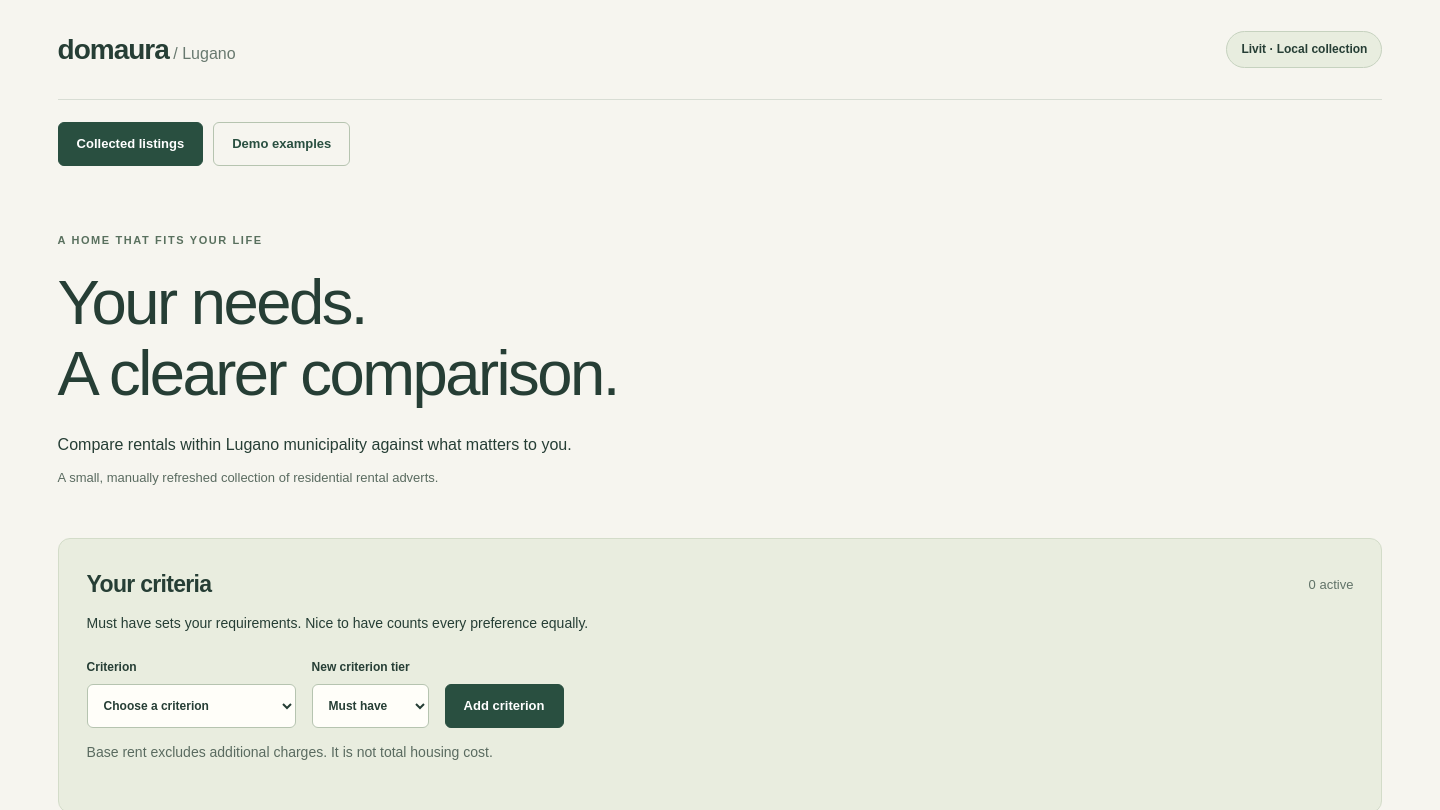
Test: collected source evidence › shows unknown collected attributes with the existing English comparison explanations
Select "Maximum monthly base rent" in the dropdown labelled "Criterion" at (191, 706), box 87,684 -> 296,728
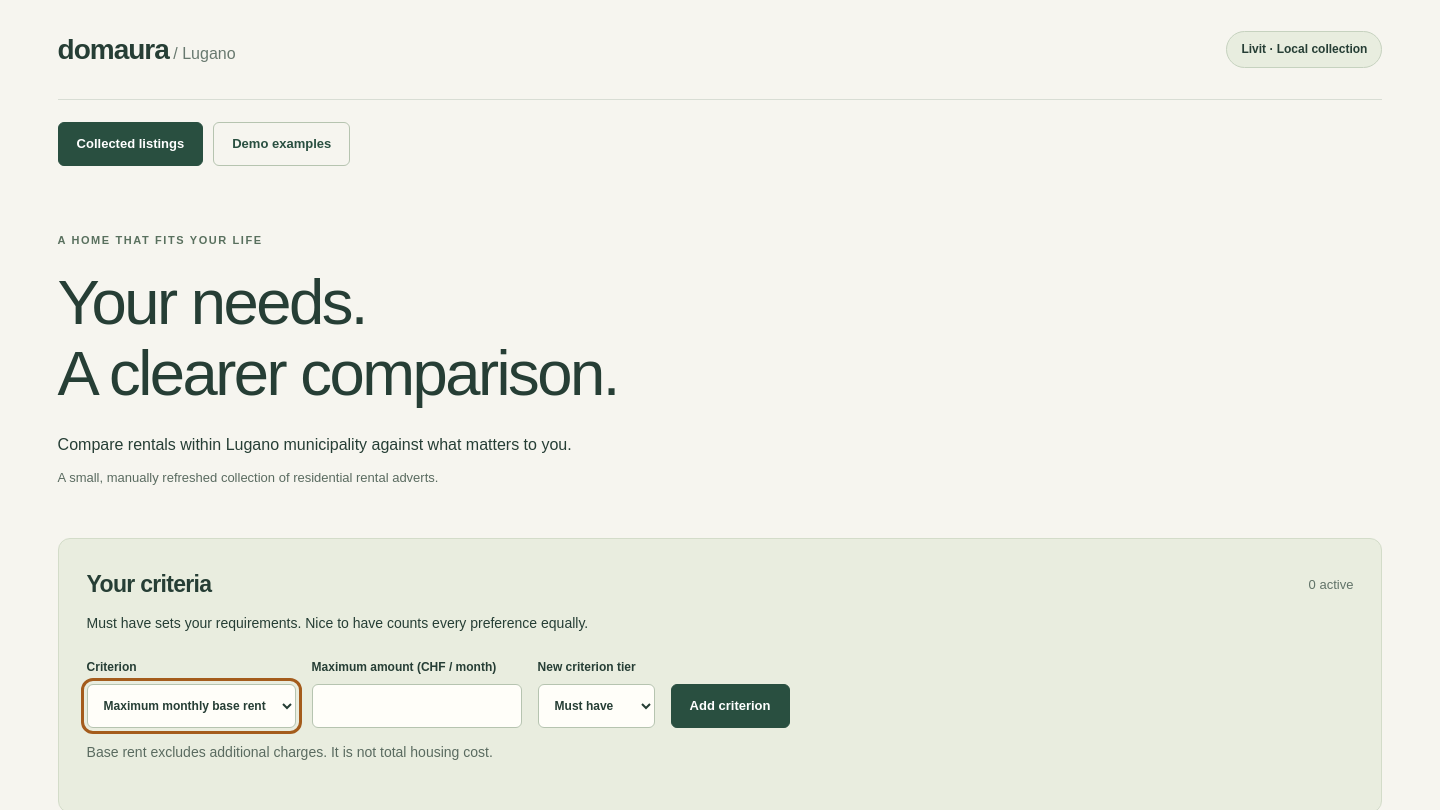
Type "1800" into the field labelled "Maximum amount (CHF / month)" at (417, 706), box 312,684 -> 522,728
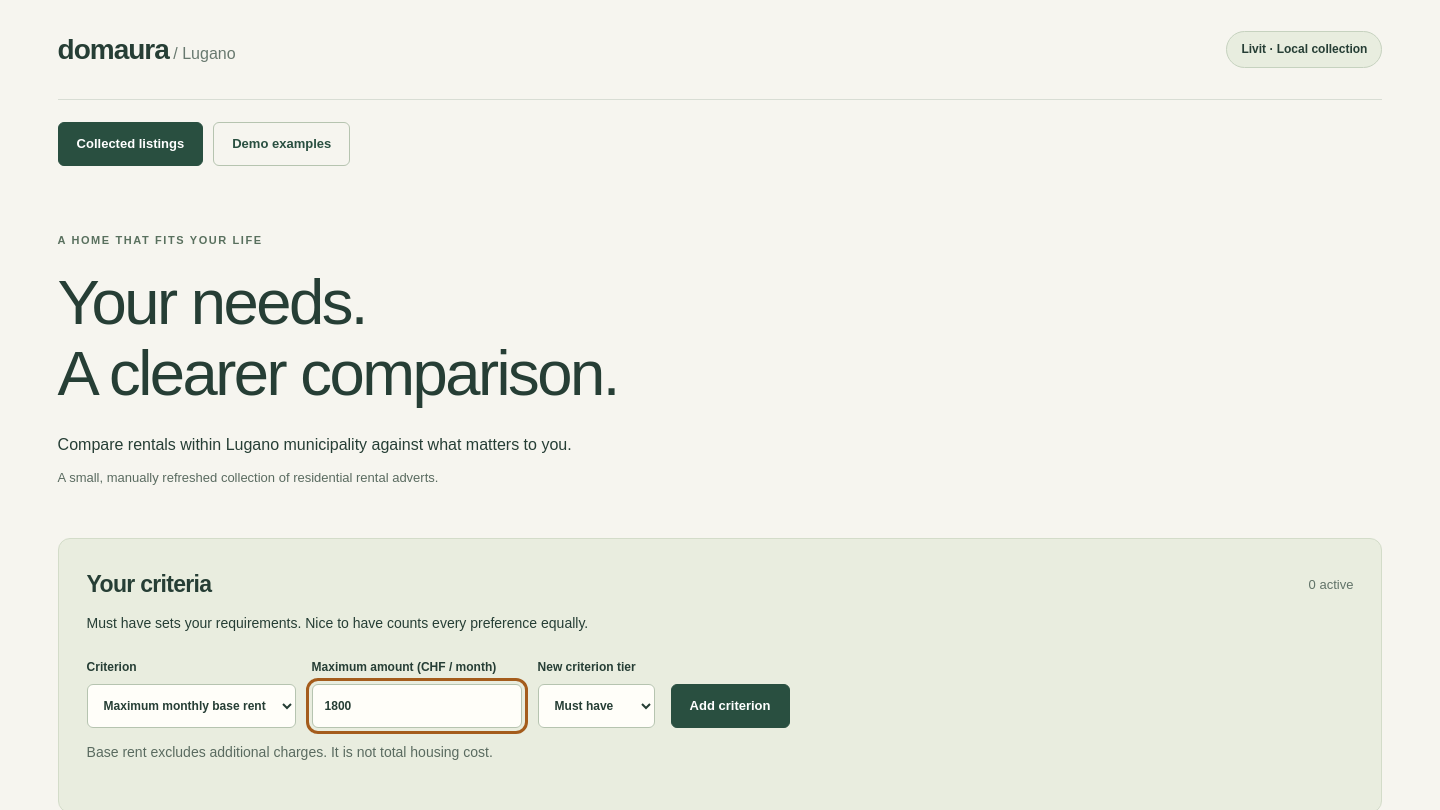
Click the button "Add criterion" at (730, 706), box 671,684 -> 790,728
(page scrolled)
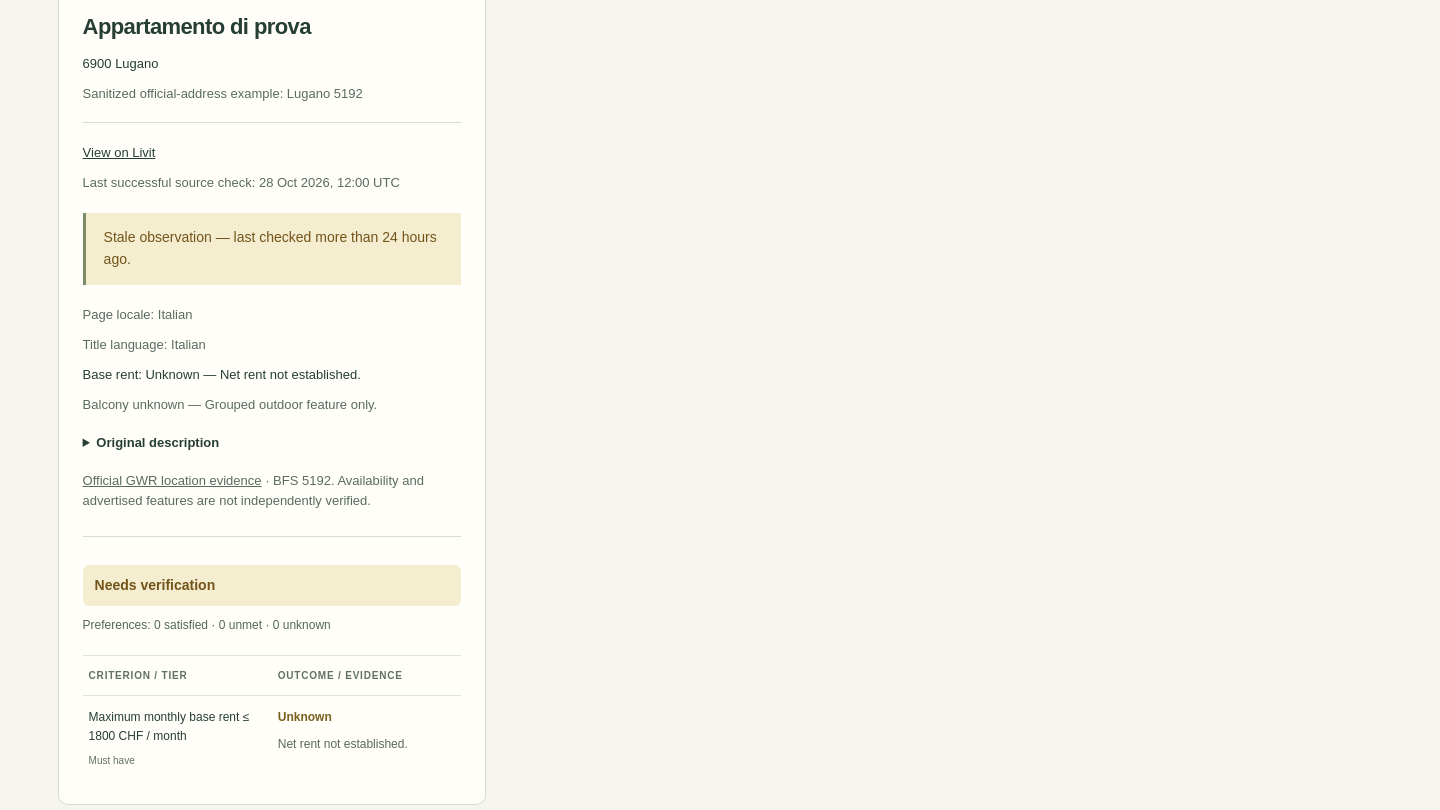
expect the text "Base rent: Unknown — Net rent not established." is shown: met, box 83,367 -> 361,382
expect the text "Needs verification" is shown: met, box 83,564 -> 461,606
